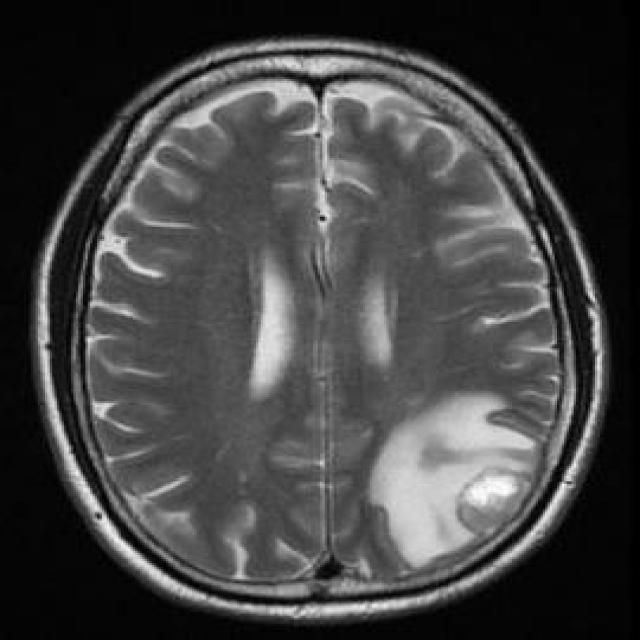Tumor-Cell: (361, 389, 524, 538)
